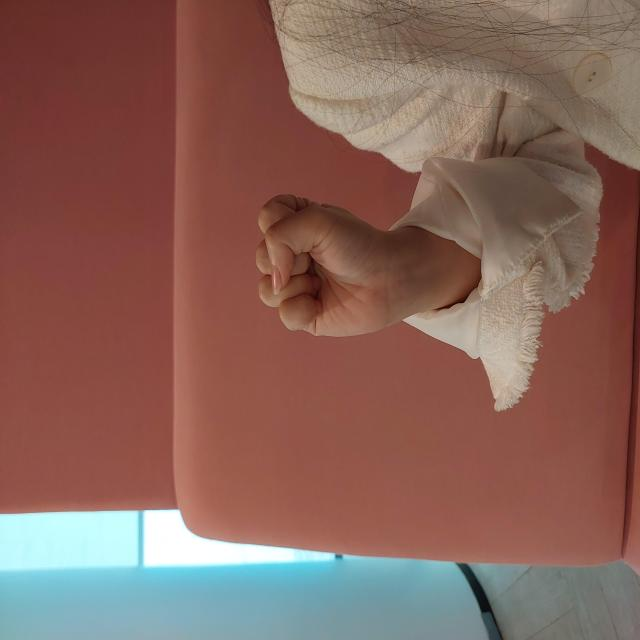S: (302, 255, 446, 372)
